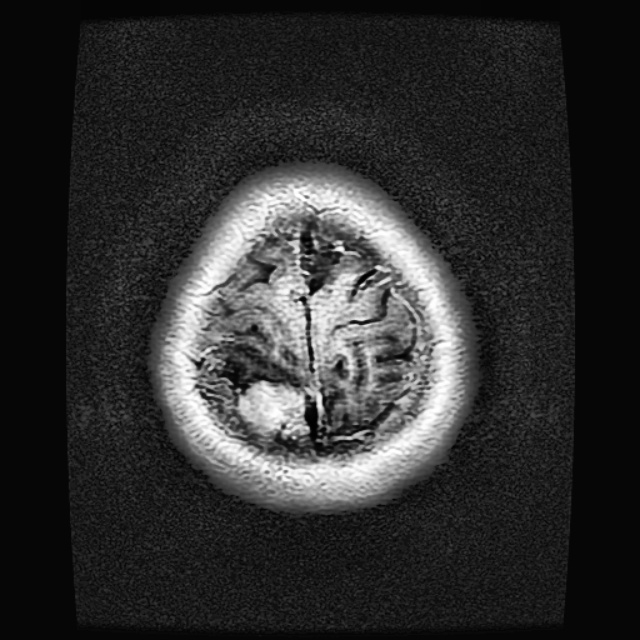Pituitary: (235, 378, 310, 443)
